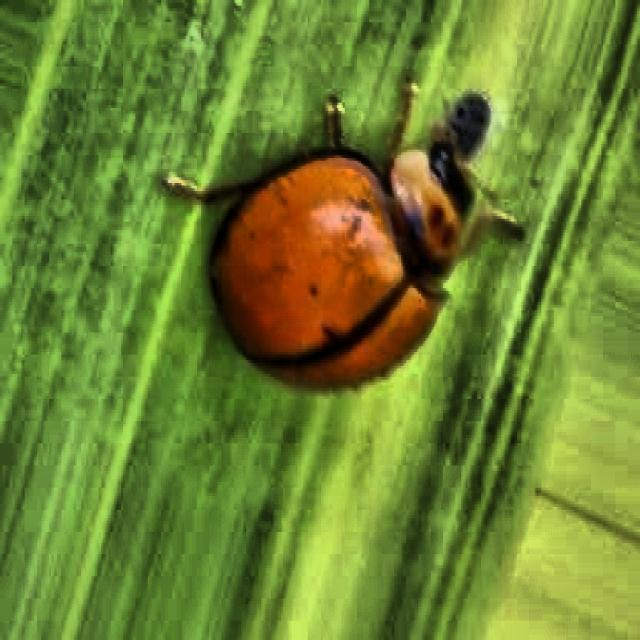Ladybug: (151, 60, 520, 426)
